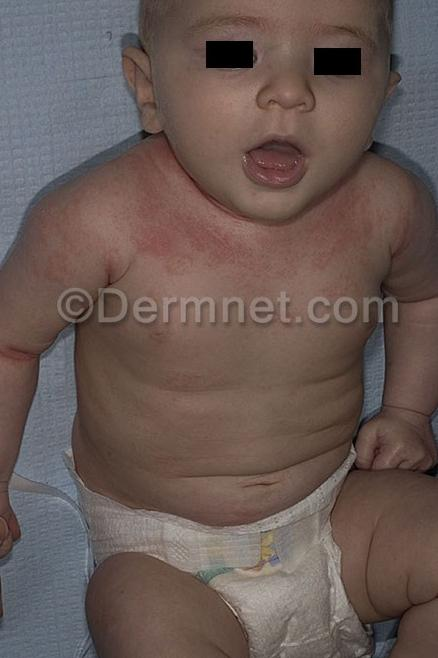eritema 1: (118, 135, 390, 278), (27, 171, 117, 284), (0, 339, 50, 370)
